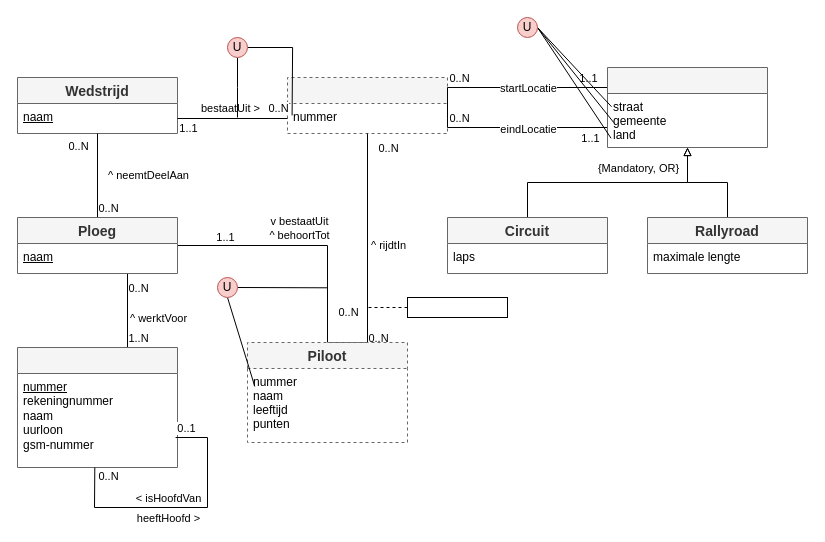
The diagram is 825 pixels wide and 542 high, and some of its shapes have lost their labels. Here are the shapes that lost their labels. From the top down, the box of each, then its label:
(286, 76, 448, 134): Rit
(606, 66, 768, 148): Locatie
(406, 296, 508, 318): eindpositie
(16, 346, 178, 468): Technieker
